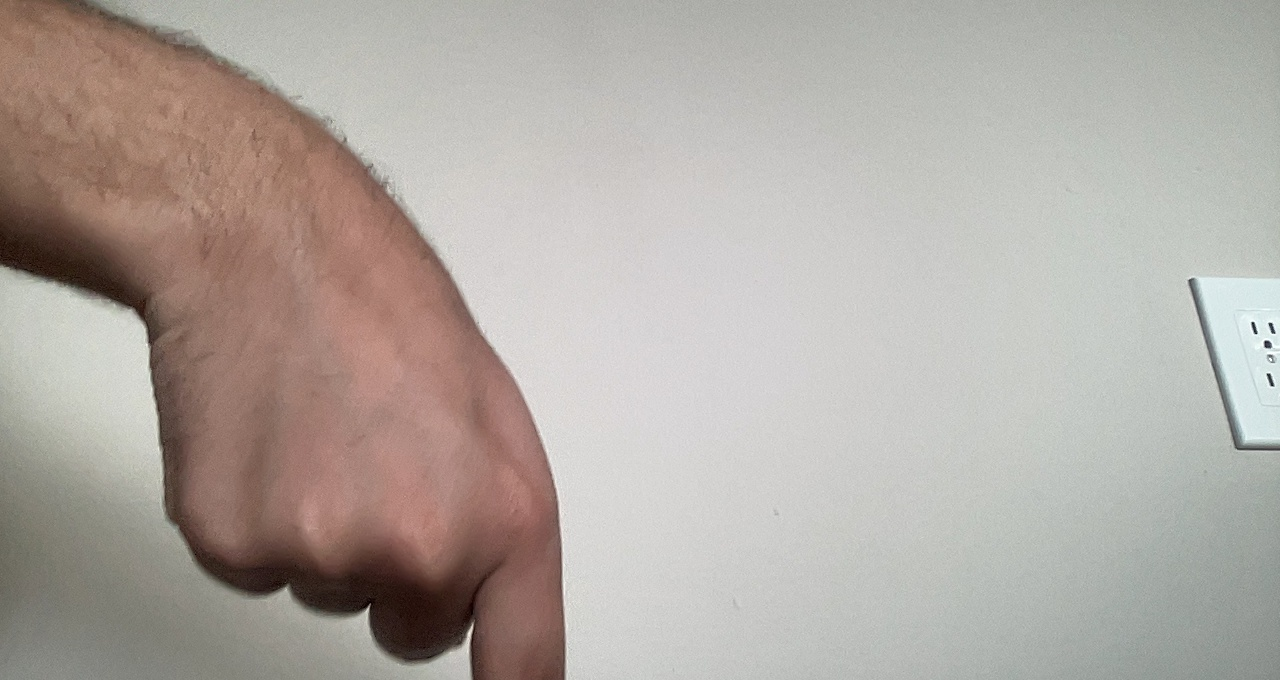fingerdown: (121, 77, 586, 679)
